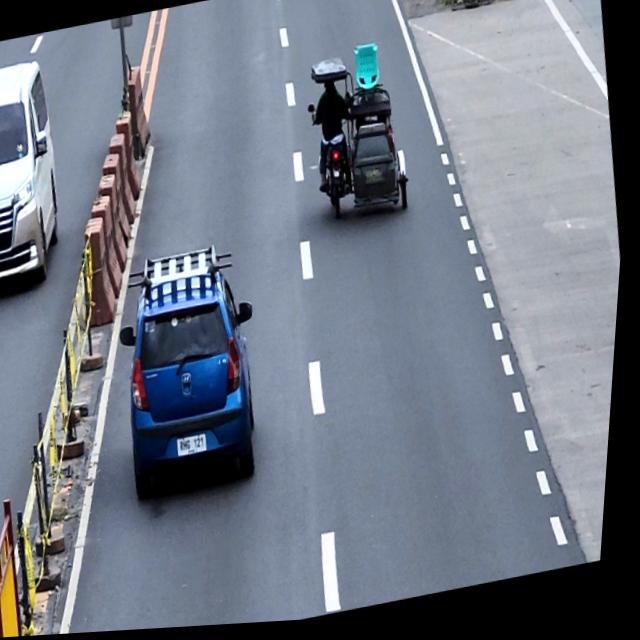Car: (105, 238, 284, 505), (0, 54, 79, 293)
License-Plate: (180, 433, 216, 460), (0, 249, 3, 270)
Tricycle: (297, 47, 420, 228)
